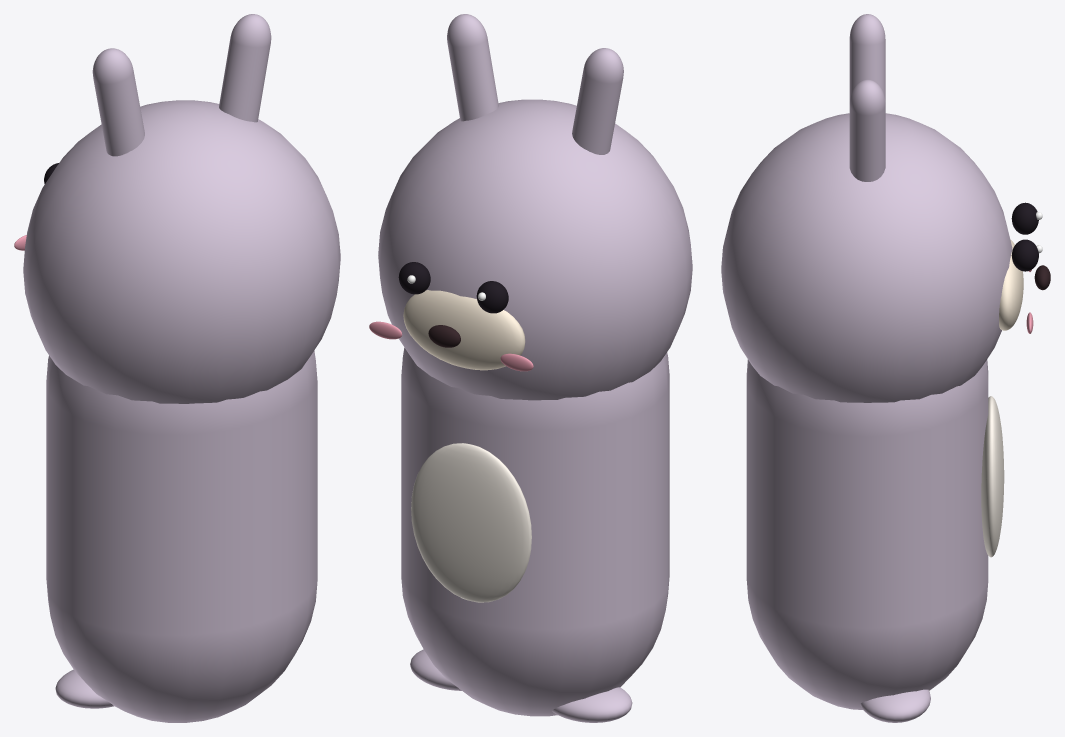
Rendered from pip-bunny.glb.
3 views of the same model, side by side, from view 1: azimuth 30°, elevation 25°; view 2: azimuth 150°, elevation 25°; view 3: azimuth 270°, elevation 25° (orthographic). The views are drawn at different scales.
Size of the model in its own units: 0.6732 by 1.57 by 0.7207.
